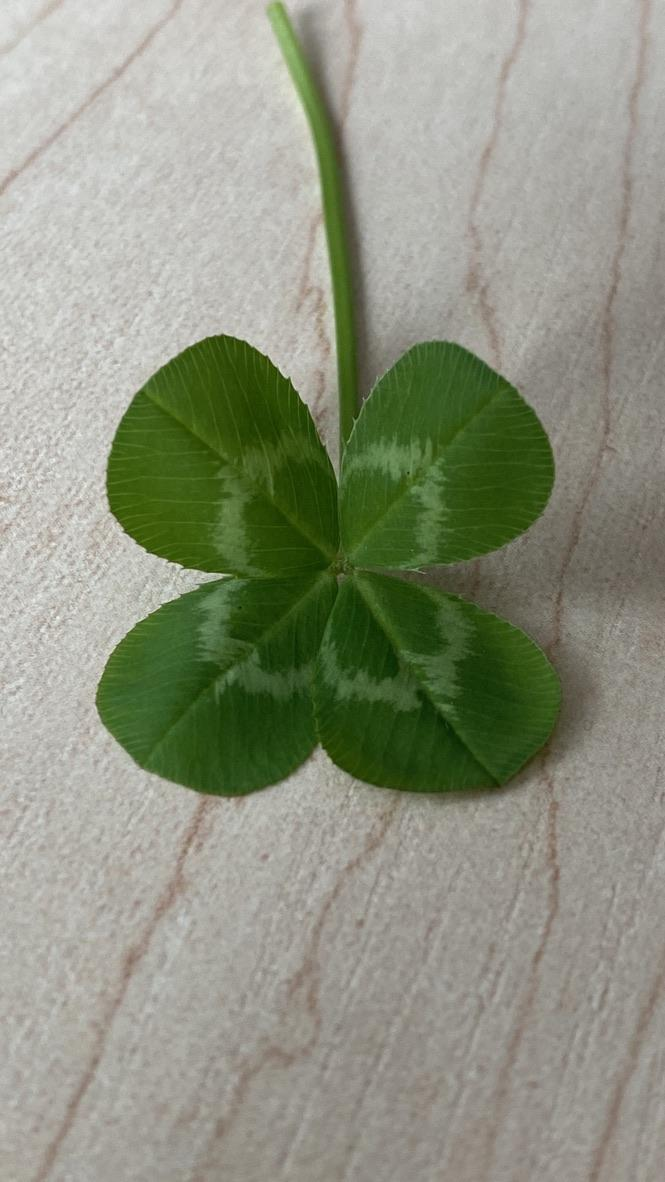4-Leaf-Clovers: (89, 333, 561, 811)
